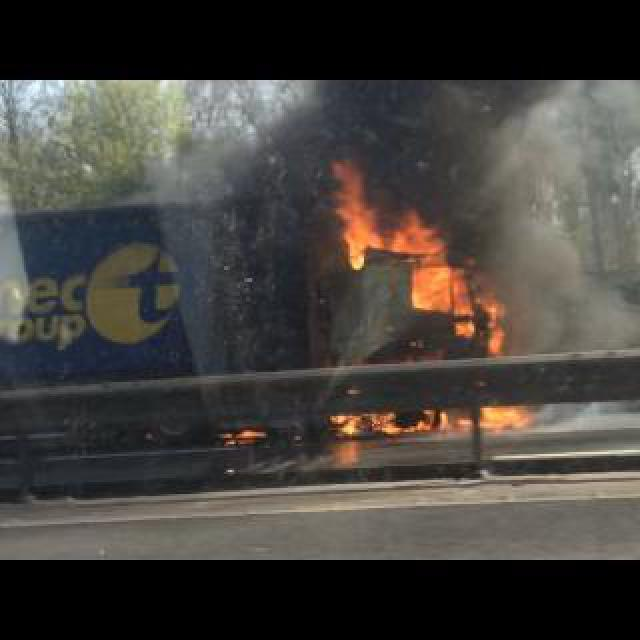Fire: (324, 158, 504, 354)
Smoke: (230, 76, 626, 222)
